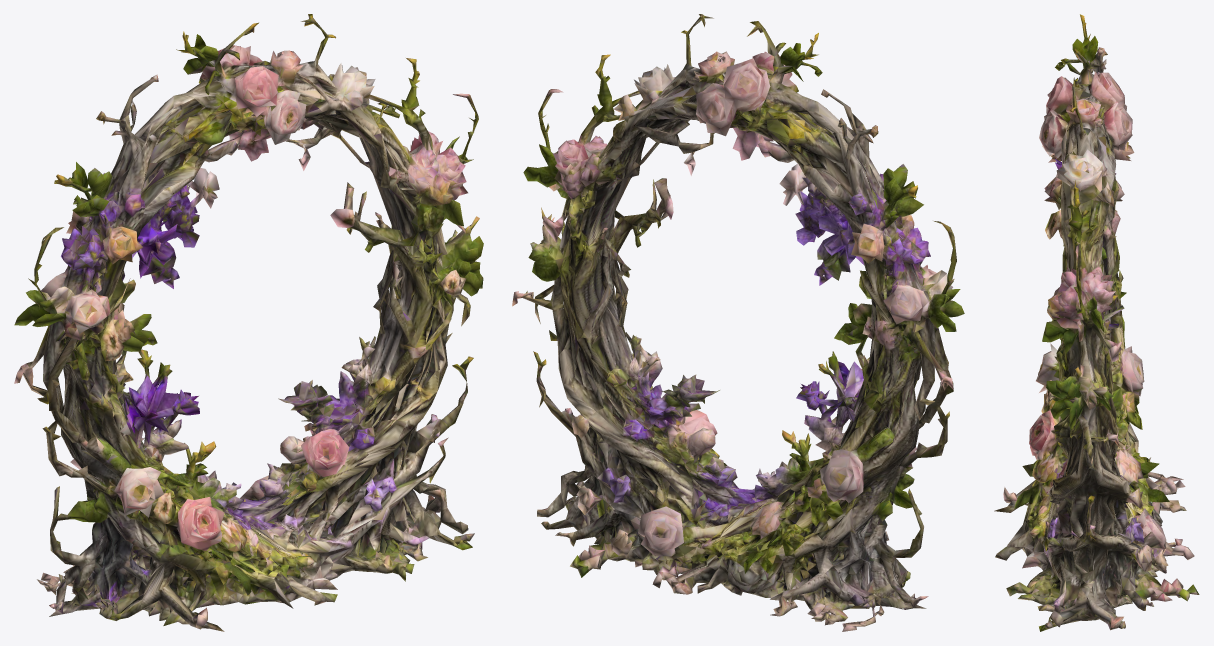
File: Floral_Wreath_of_Spri.glb
The picture shows the model from 3 angles, left to right: view 1: azimuth 30°, elevation 25°; view 2: azimuth 150°, elevation 25°; view 3: azimuth 270°, elevation 25°; orthographic projection. The views are drawn at different scales.
Visible parts, largest first — view 1: Floral_Wreath_of_Spri; view 2: Floral_Wreath_of_Spri; view 3: Floral_Wreath_of_Spri.
Boxes of the visible parts, box(x1,y1,x2,y2) form: Floral_Wreath_of_Spri: box(14, 14, 483, 631); Floral_Wreath_of_Spri: box(512, 14, 964, 631); Floral_Wreath_of_Spri: box(994, 14, 1199, 631).
Size of the model in its own units: 1.59 by 1.89 by 0.7039.
Materials: 1 (1 with a texture image).
